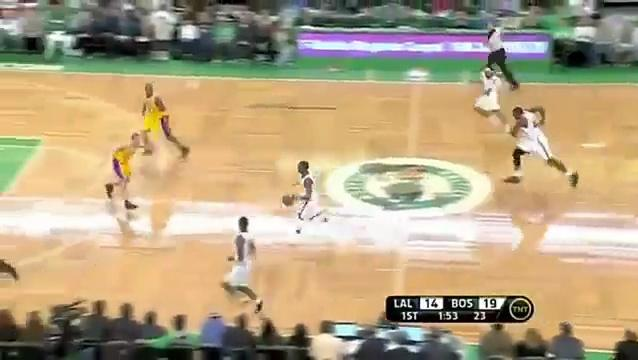Ball: (282, 195, 293, 205)
Person: (502, 104, 579, 188), (220, 213, 265, 316), (141, 83, 191, 162), (291, 160, 333, 244), (104, 130, 143, 212), (471, 61, 513, 128)
Referee: (482, 19, 515, 78)
